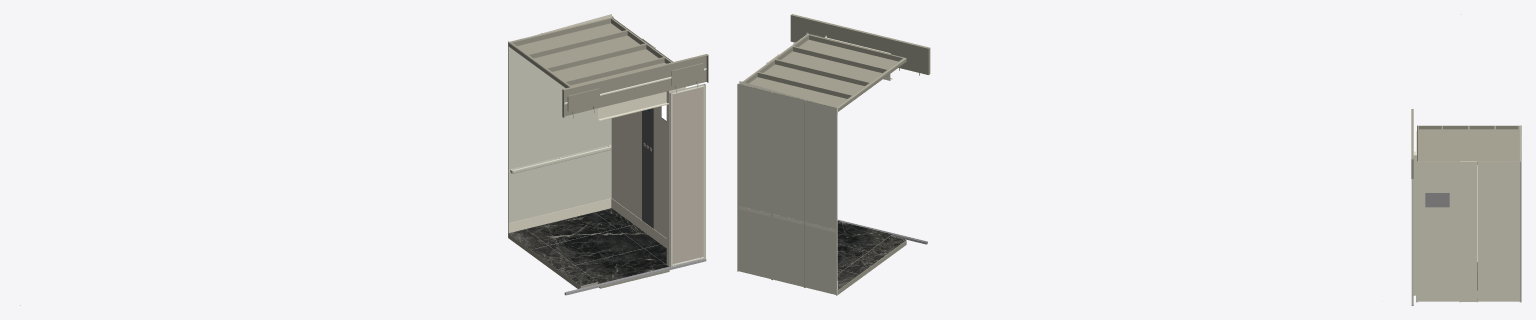
Rendered from elevator.glb.
3 views of the same model, side by side, from view 1: azimuth 30°, elevation 25°; view 2: azimuth 150°, elevation 25°; view 3: azimuth 270°, elevation 25° (orthographic). The views are drawn at different scales.
Visible parts, largest first — view 1: NaPol.001_20, Stvorki.003_24, Potolok.001_11, PanelZad1.001_6, PanelZad2.002_5, PanelZad2.003_22, PanelBok3.002_3, Golova.001_14, PanelBok1.003_2, Prikaznik.001_27, Plintys2.001_19, Pritoloka.001_13 (+7 smaller); view 2: Potolok.001_11, PanelZad2.003_22, PanelZad1.001_6, PanelZad2.002_5, Golova.001_14, NaPol.001_20; view 3: PanelBok3.002_3, PanelBok1.003_2, Potolok.001_11, PanelBok1.005_26, PlanePered.002_7, Monik.002_21, Stvorki.003_24, PanelZad2.003_22, Golova.001_14.
Boxes of the visible parts, bbox=[...] form: NaPol.001_20: bbox=[509, 208, 668, 285]; Stvorki.003_24: bbox=[669, 84, 705, 267]; Potolok.001_11: bbox=[508, 17, 672, 88]; PanelZad1.001_6: bbox=[508, 33, 542, 237]; PanelZad2.002_5: bbox=[542, 33, 576, 214]; PanelZad2.003_22: bbox=[576, 16, 612, 206]; PanelBok3.002_3: bbox=[611, 16, 642, 219]; Golova.001_14: bbox=[562, 54, 708, 117]; PanelBok1.003_2: bbox=[653, 47, 672, 237]; Prikaznik.001_27: bbox=[642, 108, 653, 228]; Plintys2.001_19: bbox=[508, 198, 611, 232]; Pritoloka.001_13: bbox=[598, 91, 668, 120]; Potolok.001_11: bbox=[743, 34, 906, 111]; PanelZad2.003_22: bbox=[737, 83, 772, 279]; PanelZad1.001_6: bbox=[804, 100, 837, 295]; PanelZad2.002_5: bbox=[772, 92, 804, 287]; Golova.001_14: bbox=[790, 14, 930, 74]; NaPol.001_20: bbox=[837, 221, 905, 289]; PanelBok3.002_3: bbox=[1477, 161, 1520, 302]; PanelBok1.003_2: bbox=[1417, 161, 1460, 302]; Potolok.001_11: bbox=[1417, 125, 1520, 164]; PanelBok1.005_26: bbox=[1460, 161, 1476, 302]; PlanePered.002_7: bbox=[1413, 155, 1416, 302]; Monik.002_21: bbox=[1425, 193, 1449, 207]; Stvorki.003_24: bbox=[1411, 179, 1413, 303]; PanelZad2.003_22: bbox=[1520, 149, 1521, 302]; Golova.001_14: bbox=[1411, 109, 1413, 179].
Bounding box in the file's own units: 10.47 × 3.2 × 2.14.
Materials: 14 (3 with a texture image).
